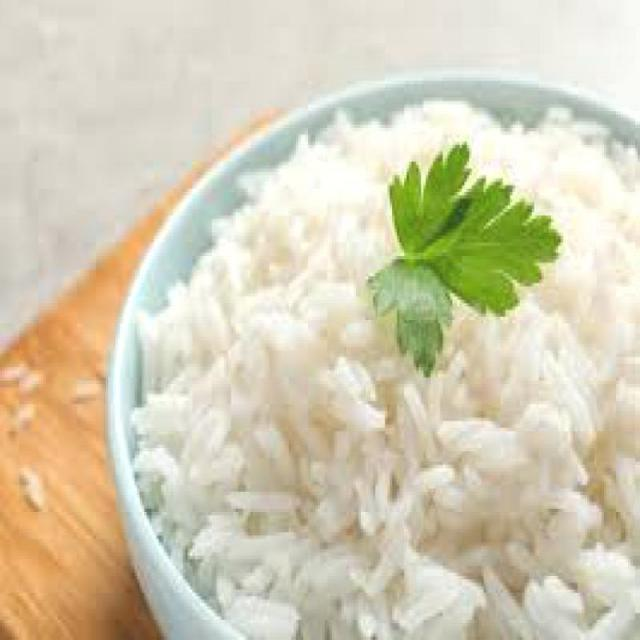rice: (132, 94, 638, 637)
